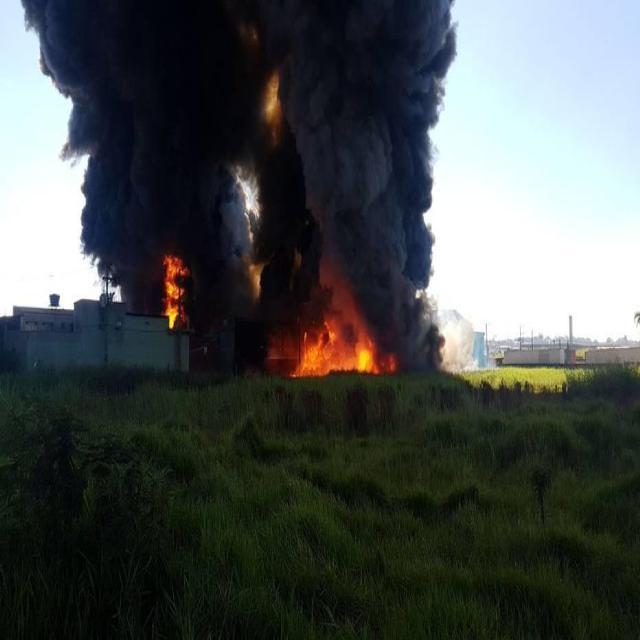Fire: (287, 304, 399, 385), (156, 244, 188, 334)
